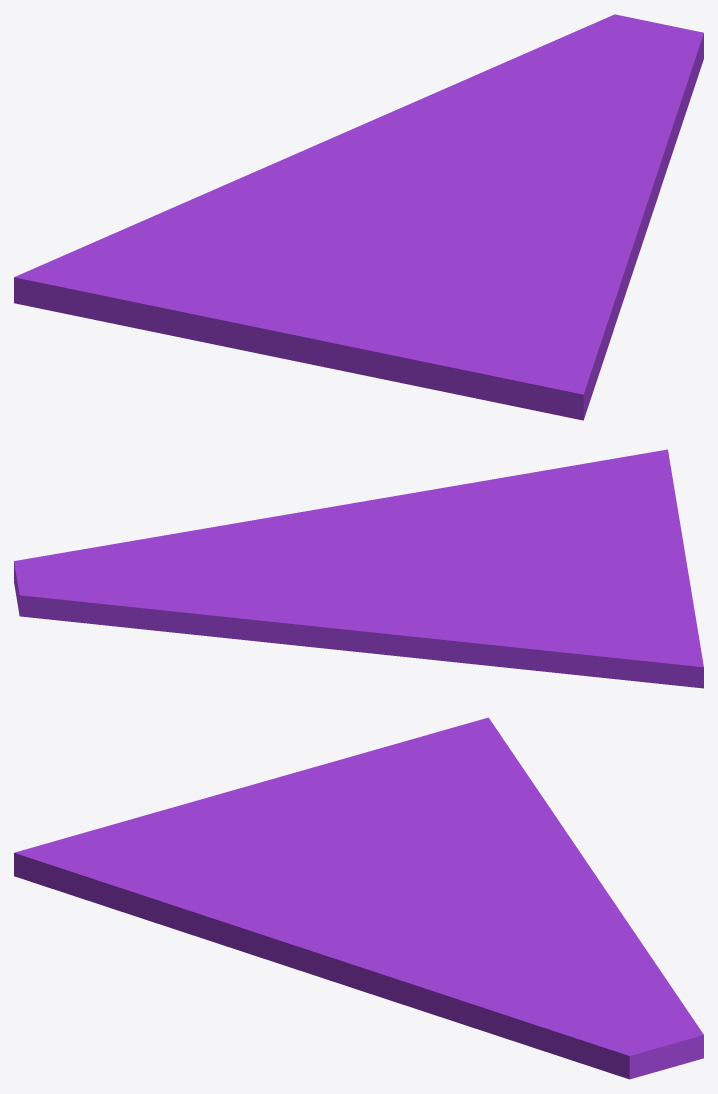
Rendered from StairsStep_11_chunks.fbx.
The picture shows the model from 3 angles, top to bottom: view 1: azimuth 30°, elevation 25°; view 2: azimuth 150°, elevation 25°; view 3: azimuth 270°, elevation 25°; orthographic projection. The views are drawn at different scales.
Parts seen in each view (by area): view 1: StairsStep_11_2, StairsStep_11_0, StairsStep_11_3; view 2: StairsStep_11_0, StairsStep_11_2, StairsStep_11_3; view 3: StairsStep_11_2, StairsStep_11_0, StairsStep_11_3.
Boxes of the visible parts, bbox=[...] form: StairsStep_11_2: bbox=[230, 178, 653, 420]; StairsStep_11_0: bbox=[14, 106, 483, 346]; StairsStep_11_3: bbox=[405, 14, 703, 210]; StairsStep_11_0: bbox=[259, 567, 703, 688]; StairsStep_11_2: bbox=[285, 449, 689, 583]; StairsStep_11_3: bbox=[14, 515, 347, 642]; StairsStep_11_2: bbox=[14, 769, 458, 993]; StairsStep_11_0: bbox=[306, 717, 628, 923]; StairsStep_11_3: bbox=[370, 917, 703, 1079].
Size of the model in its own units: 555 by 17.94 by 478.
